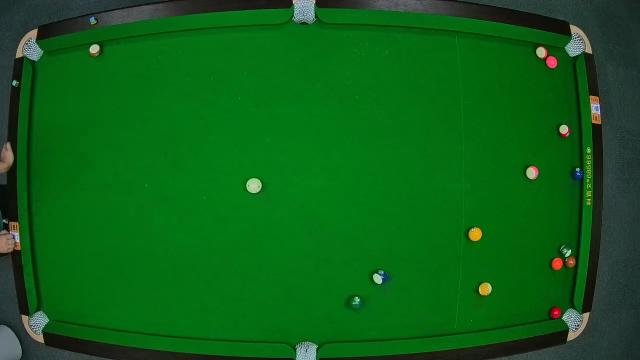bag1: (19, 38, 45, 62)
bag2: (291, 0, 317, 26)
bag3: (566, 29, 588, 57)
bag4: (22, 309, 50, 341)
bag5: (294, 340, 320, 360)
bag6: (563, 308, 585, 332)
ball0: (246, 179, 262, 194)
ball1: (466, 226, 482, 242)
ball10: (372, 270, 388, 284)
ball11: (556, 124, 570, 138)
ball12: (526, 165, 540, 180)
ball13: (536, 47, 548, 59)
ball14: (558, 243, 574, 258)
ball15: (88, 43, 104, 59)
ball2: (570, 166, 584, 182)
ball3: (547, 307, 563, 321)
ball4: (546, 56, 558, 68)
ball5: (550, 258, 564, 274)
ball6: (348, 296, 364, 310)
ball7: (564, 254, 578, 270)
ball9: (477, 282, 493, 296)
